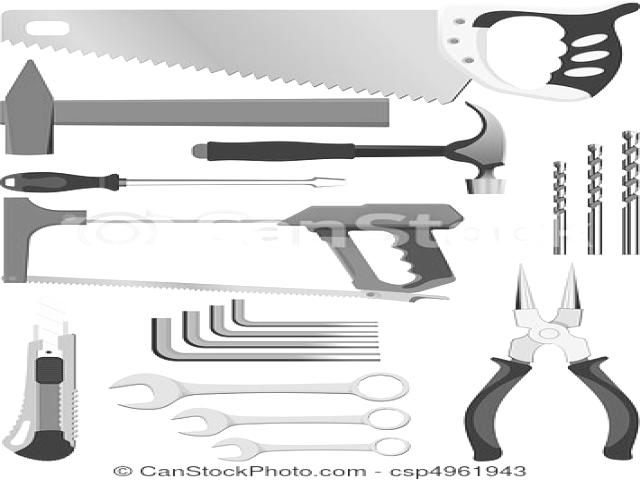Backsaw: (4, 198, 467, 303)
Hammer: (0, 60, 390, 155), (192, 102, 504, 194)
Handsaw: (4, 0, 638, 103)
Needle-nose pliers: (464, 264, 636, 461)
Screwdriver: (0, 172, 347, 193)
Utility knife: (2, 292, 77, 460)
Wrench: (110, 372, 409, 409), (172, 407, 409, 436), (214, 437, 409, 461)
